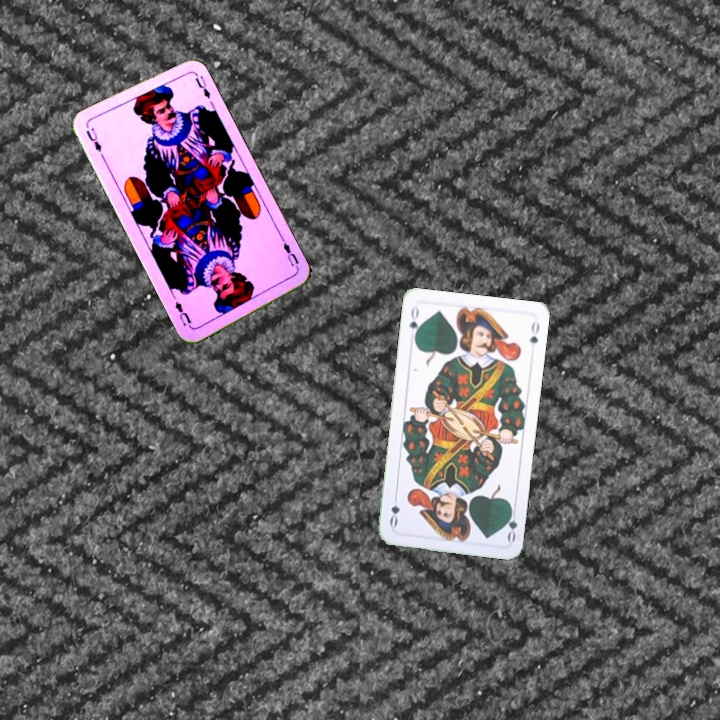EU: (278, 235, 301, 273), (82, 123, 104, 154)
GO: (501, 503, 520, 544), (405, 303, 423, 343)
